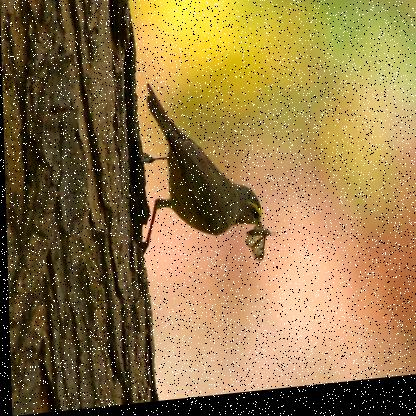Burung: (135, 78, 274, 278)
